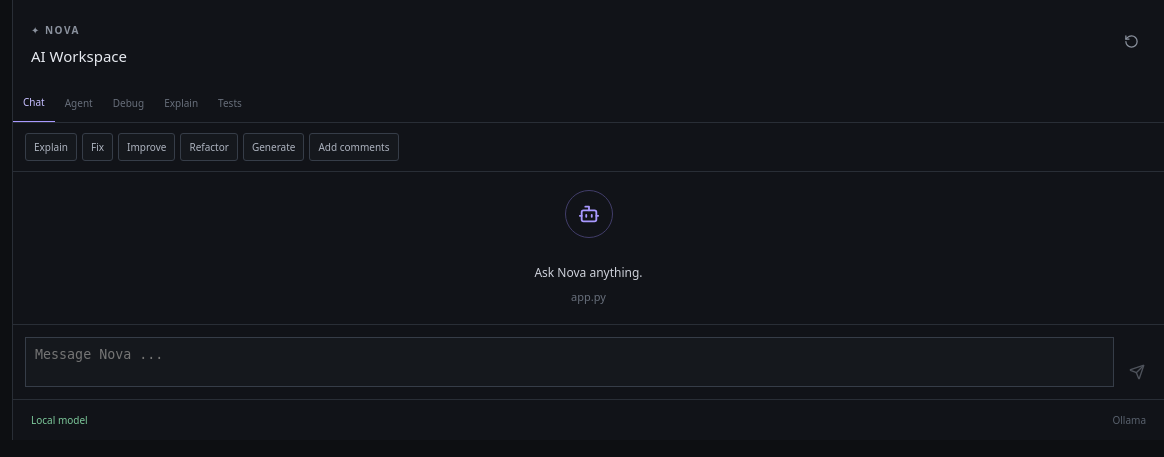
AIWorkspace › runs Explain and shows the explanation without offering a file write
Step 1. Click the button "Explain" → (51, 147), box [25, 133, 77, 161]
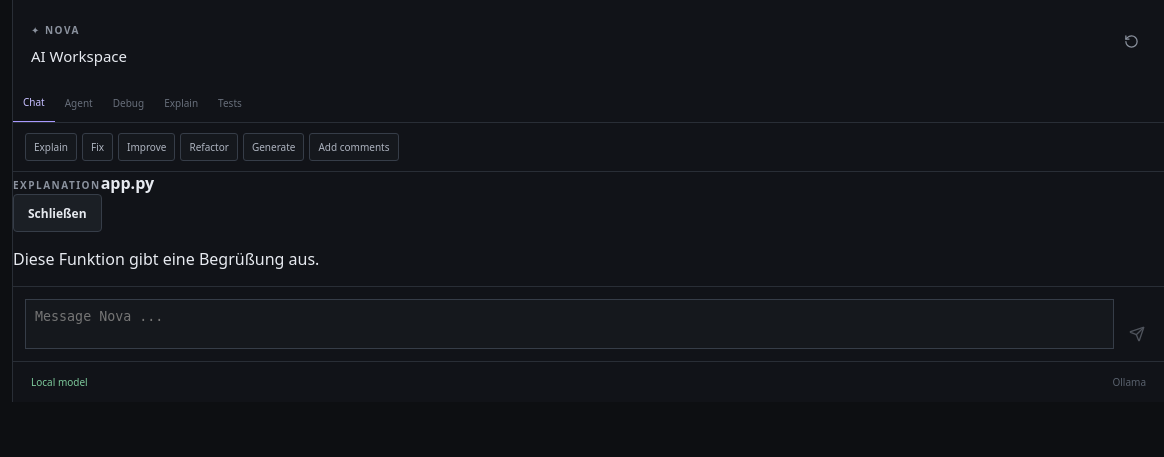
expect the element named "Code-Erklärung" shows "Diese Funktion": met, box [13, 248, 319, 270]
